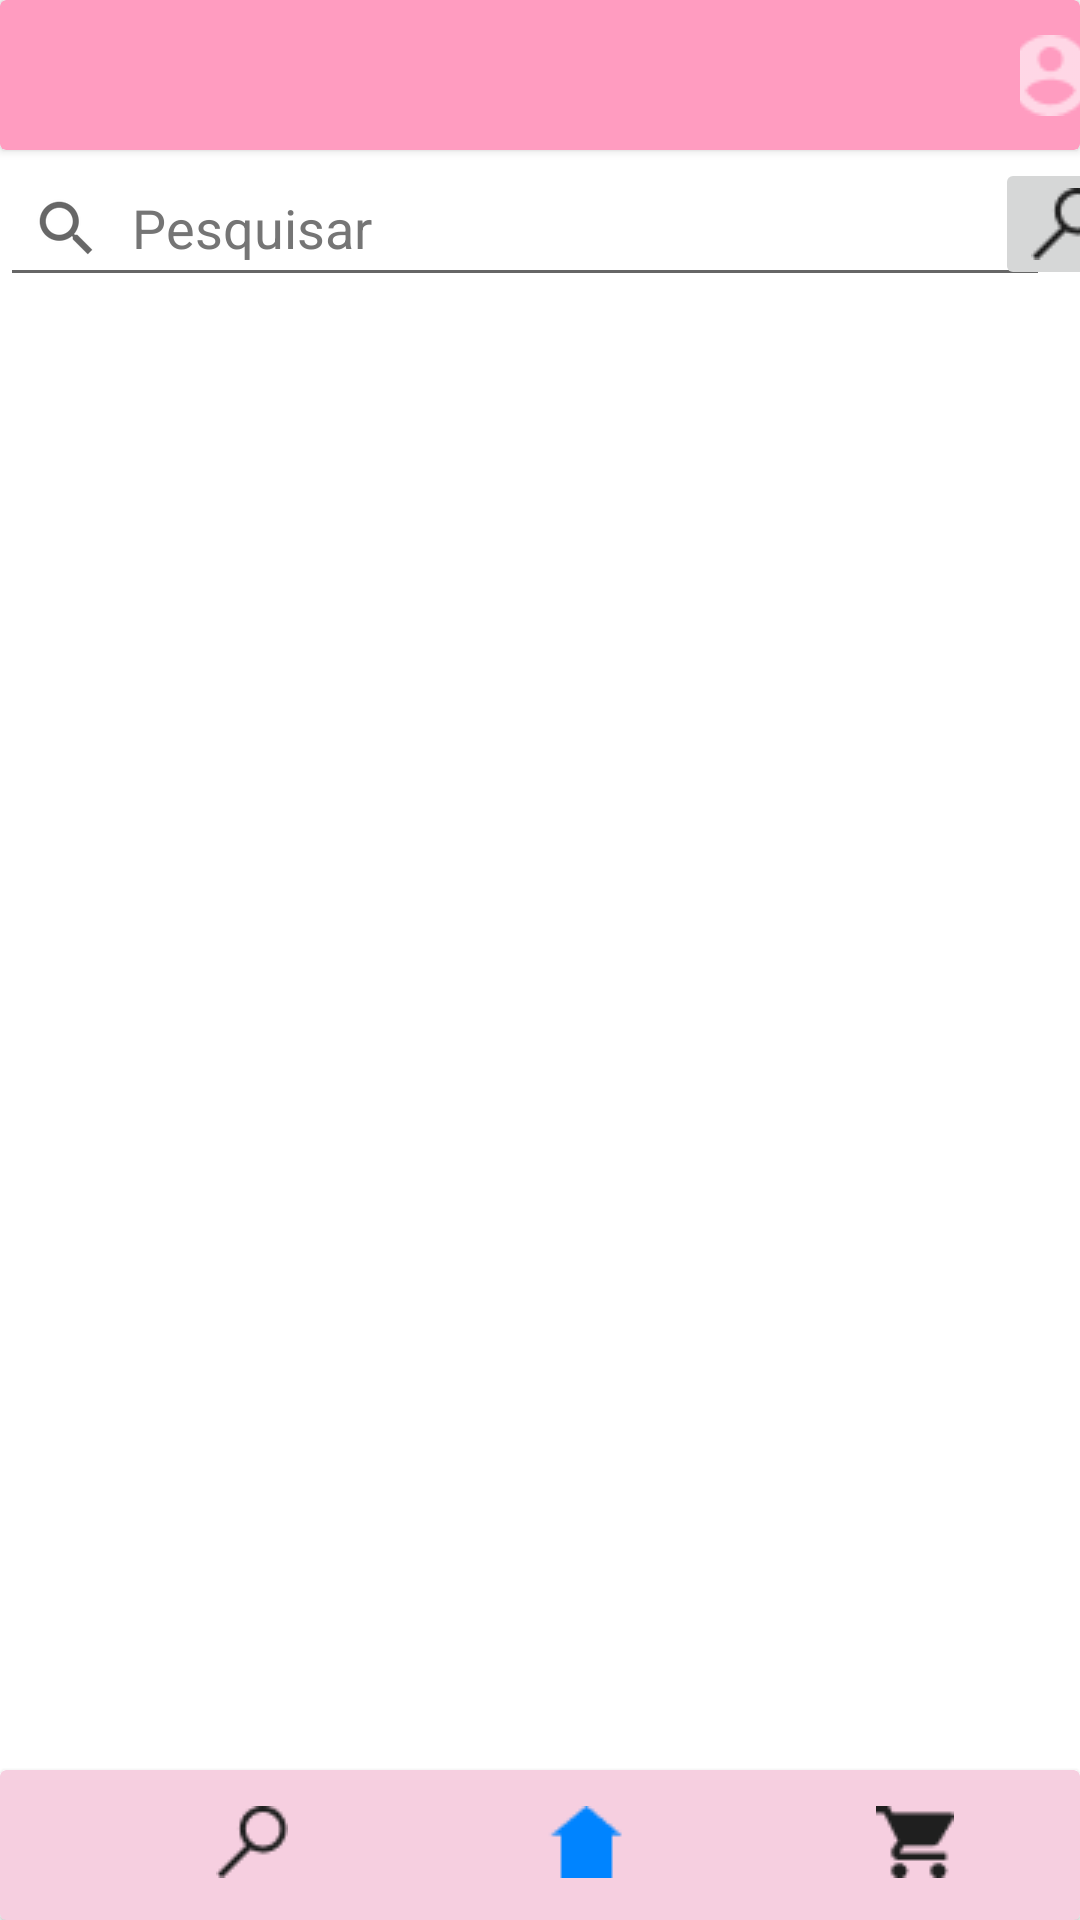

Locate icon controls on the screen. Image size 1080x1920, boxes as [x1, y1, x2, y2].
Carrinho: [876, 1806, 954, 1878]
Home: [551, 1806, 622, 1878]
Login: [1020, 35, 1080, 116]
Pesquisar: [216, 1806, 288, 1878]
